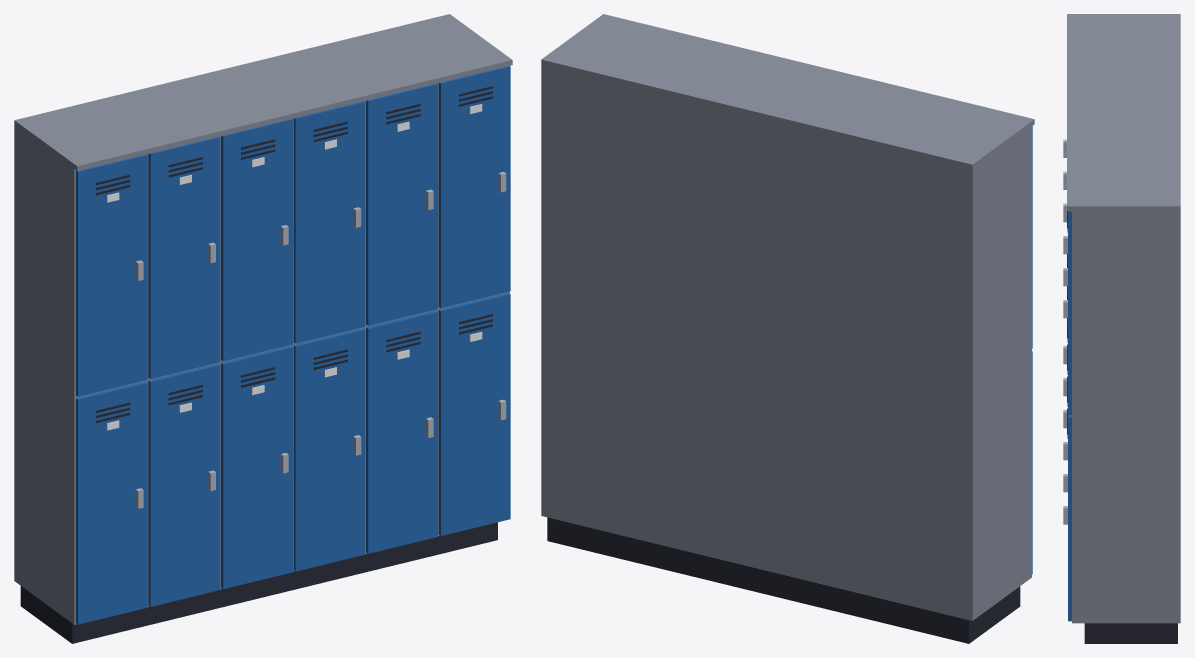
Rendered from sch-035.glb.
The picture shows the model from 3 angles, left to right: view 1: azimuth 30°, elevation 25°; view 2: azimuth 150°, elevation 25°; view 3: azimuth 270°, elevation 25°; orthographic projection. The views are drawn at different scales.
Visible parts, largest first — view 1: door (×12), carcass, top_cap, plinth; view 2: carcass, top_cap, plinth; view 3: carcass, top_cap, plinth, door (×2).
Boxes of the visible parts, x1,y1,x2,y2 form: door (×12): (76,66,510,624); carcass: (14,83,509,624); top_cap: (14,14,512,171); plinth: (20,522,497,643); carcass: (541,64,1031,620); top_cap: (541,14,1034,169); plinth: (547,517,1020,643); carcass: (1072,211,1180,623); top_cap: (1067,14,1180,210); plinth: (1084,623,1177,643); door (×2): (1068,211,1071,621).
Bounding box in the file's own units: 1.8 × 1.92 × 0.464.
